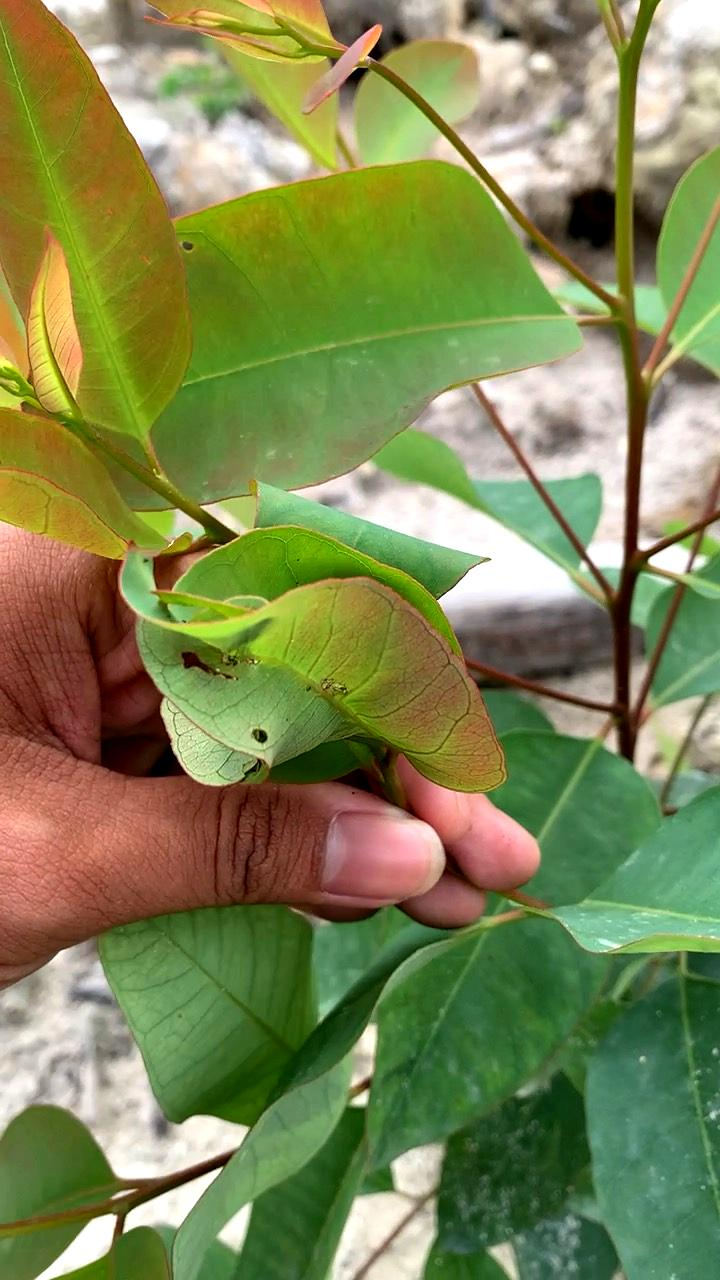Leaf Roller - Leaf: (55, 490, 536, 914)
